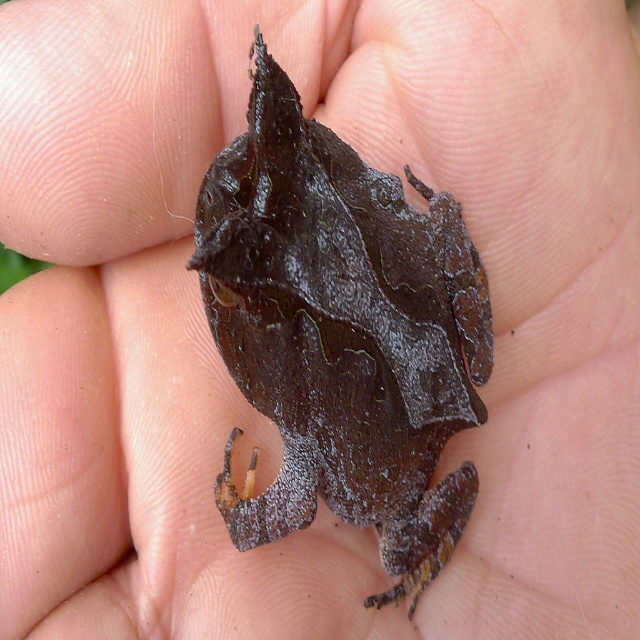Frog: (184, 21, 492, 624)
